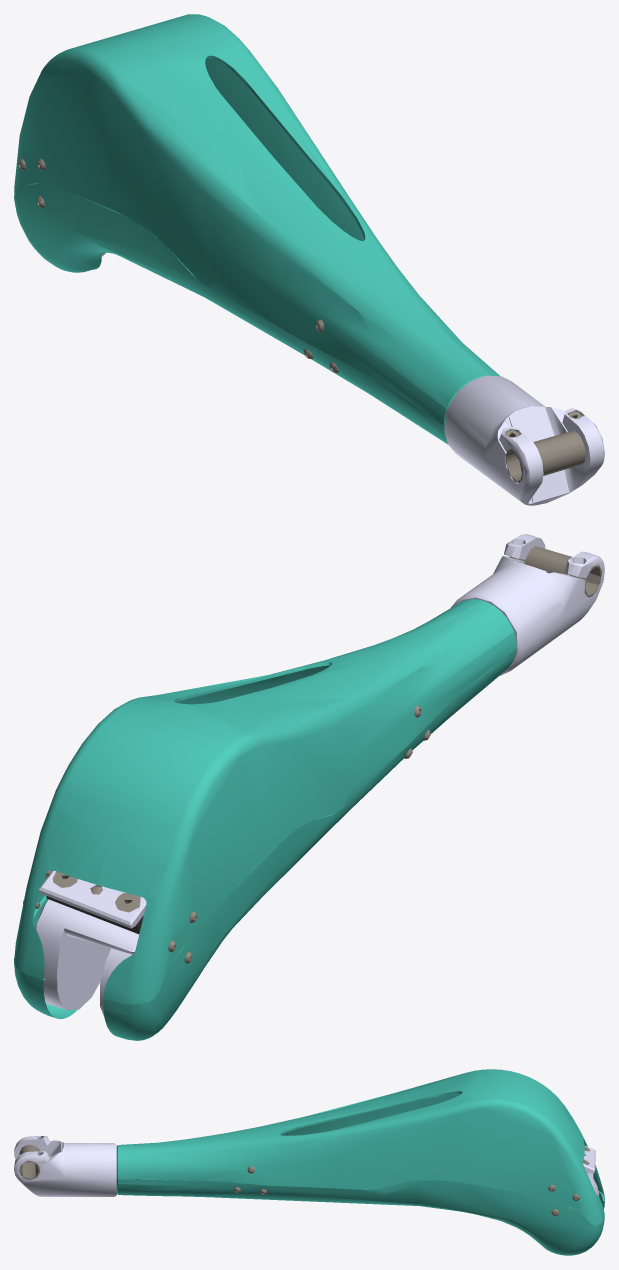
File: left-tarsus.obj
3 renders of one model, top to bottom at view 1: azimuth 30°, elevation 25°; view 2: azimuth 150°, elevation 25°; view 3: azimuth 270°, elevation 25°, orthographic. The views are drawn at different scales.
Visible parts, largest first — view 1: left_tarsus; view 2: left_tarsus; view 3: left_tarsus.
Boxes of the visible parts, x1,y1,x2,y2 form: left_tarsus: (14, 14, 604, 505); left_tarsus: (14, 534, 604, 1040); left_tarsus: (14, 1069, 604, 1255).
Bounding box in the file's own units: 0.0817 × 0.1338 × 0.4494.
Materials: 1 (1 with a texture image).
